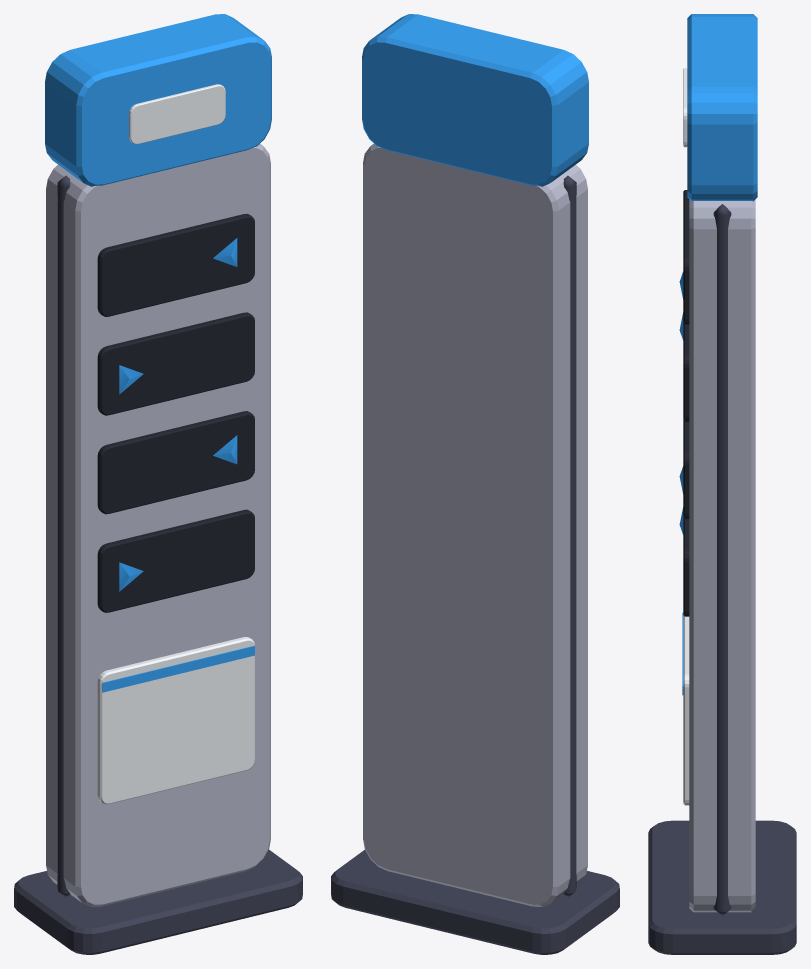
File: signage_totem.glb
3 renders of one model, left to right at view 1: azimuth 30°, elevation 25°; view 2: azimuth 150°, elevation 25°; view 3: azimuth 270°, elevation 25°, orthographic.
Parts seen in each view (by area): view 1: sign_body, sign_header, sign_map_panel, sign_base, sign_row_1, sign_row_3, sign_row_2, sign_row_0, sign_edge_l, sign_header_mark, sign_map_accent; view 2: sign_body, sign_header, sign_base, sign_edge_l; view 3: sign_body, sign_base, sign_header, sign_edge_r, sign_map_panel, sign_row_0, sign_row_3, sign_row_1, sign_row_2, sign_header_mark.
Boxes of the visible parts, x1,y1,x2,y2 form: sign_body: (46,144,270,906); sign_header: (45,14,271,186); sign_map_panel: (97,637,254,804); sign_base: (14,850,302,954); sign_row_1: (97,312,254,415); sign_row_3: (97,509,254,612); sign_row_2: (97,411,254,514); sign_row_0: (97,213,254,316); sign_edge_l: (57,175,70,897); sign_header_mark: (129,84,225,144); sign_map_accent: (102,645,254,692); sign_body: (363,144,587,906); sign_header: (362,14,588,186); sign_base: (331,850,619,954); sign_edge_l: (563,175,576,897); sign_body: (689,199,755,912); sign_base: (648,820,796,954); sign_header: (687,14,757,201); sign_edge_r: (713,204,731,915); sign_map_panel: (683,615,689,805); sign_row_0: (683,190,689,324); sign_row_3: (683,518,689,616); sign_row_1: (683,323,689,421); sign_row_2: (683,421,689,519); sign_header_mark: (683,68,687,147).
Bounding box in the file's own units: 0.64 × 2.27 × 0.36.
